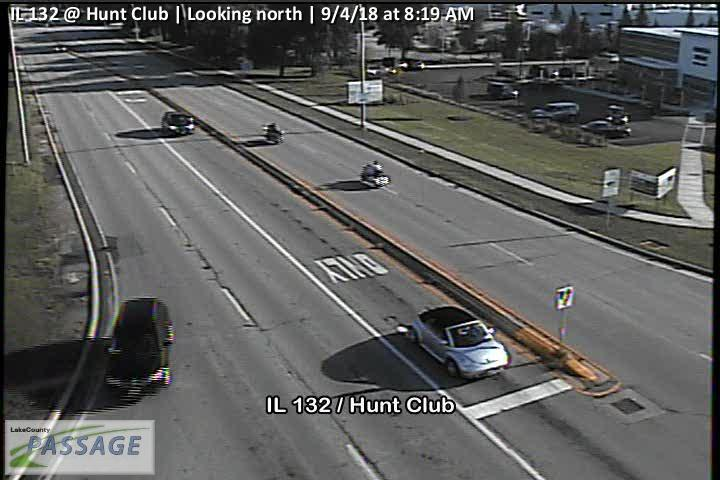Motorbike: (361, 160, 391, 187), (261, 122, 287, 144)
SUV: (104, 298, 175, 390), (529, 102, 580, 122)
Sedan: (407, 303, 511, 380), (580, 120, 631, 140), (162, 111, 195, 135)
